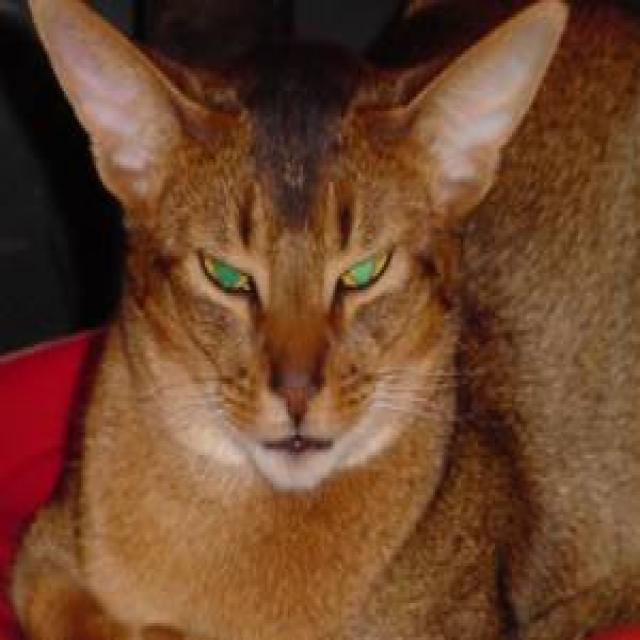Abyssinian: (13, 0, 578, 501)
